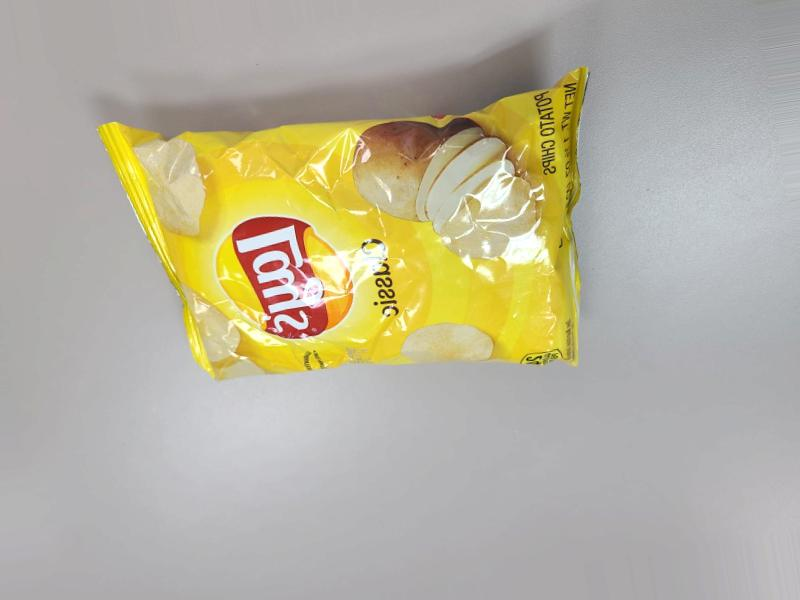lays: (134, 140, 579, 455)
